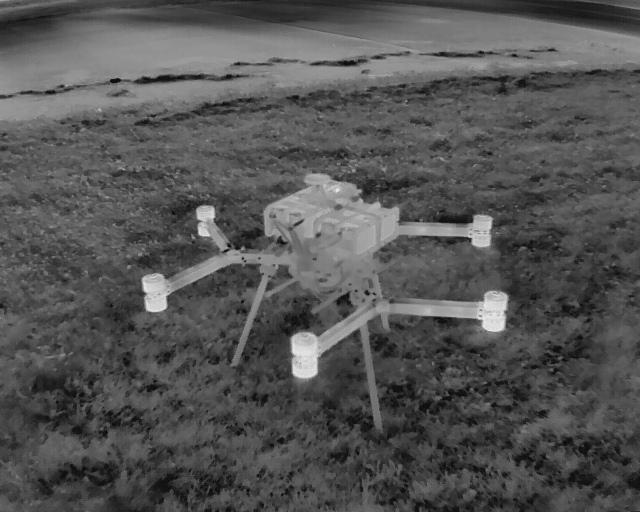drone: (138, 153, 515, 438)
